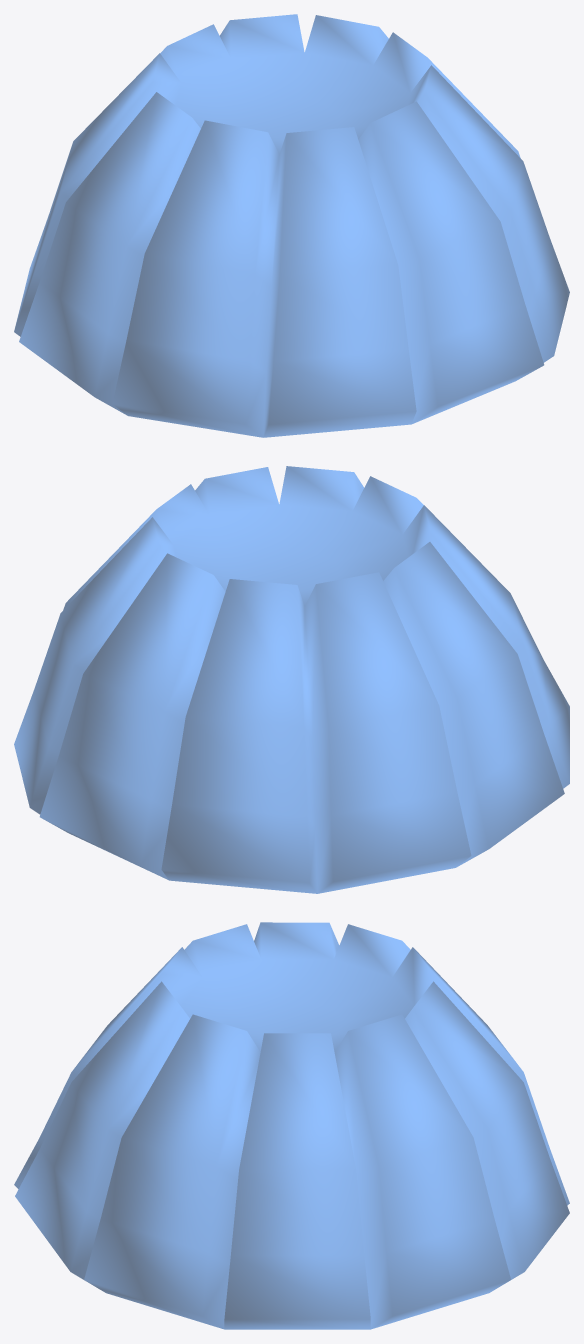
Rendered from asset.glb.
3 views of the same model, one above another, from view 1: azimuth 30°, elevation 25°; view 2: azimuth 150°, elevation 25°; view 3: azimuth 270°, elevation 25° (orthographic). The views are drawn at different scales.
Parts seen in each view (by area): view 1: Cylinder, Cylinder.001; view 2: Cylinder, Cylinder.001; view 3: Cylinder, Cylinder.001.
Boxes of the visible parts, left/top/right/bottom form: Cylinder: left=14, top=14, right=569, bottom=437; Cylinder.001: left=14, top=15, right=569, bottom=436; Cylinder: left=14, top=466, right=569, bottom=893; Cylinder.001: left=14, top=466, right=569, bottom=893; Cylinder: left=14, top=922, right=569, bottom=1329; Cylinder.001: left=15, top=923, right=569, bottom=1328.
Bounding box in the file's own units: 3.88 × 2.09 × 4.1.
